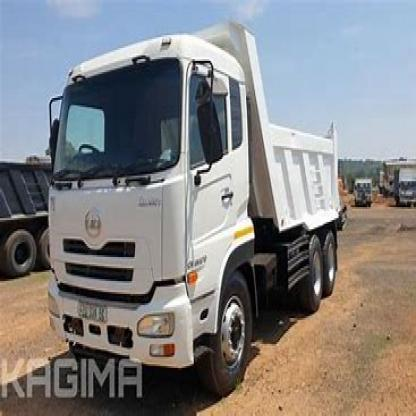dump_truck: (46, 26, 348, 386)
